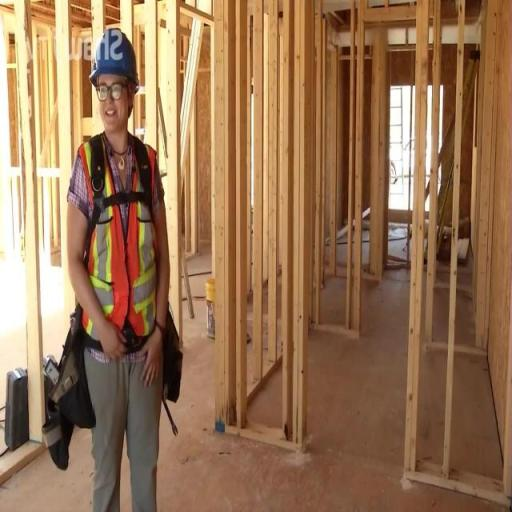helmet: (84, 19, 146, 98)
vest: (54, 130, 180, 366)
